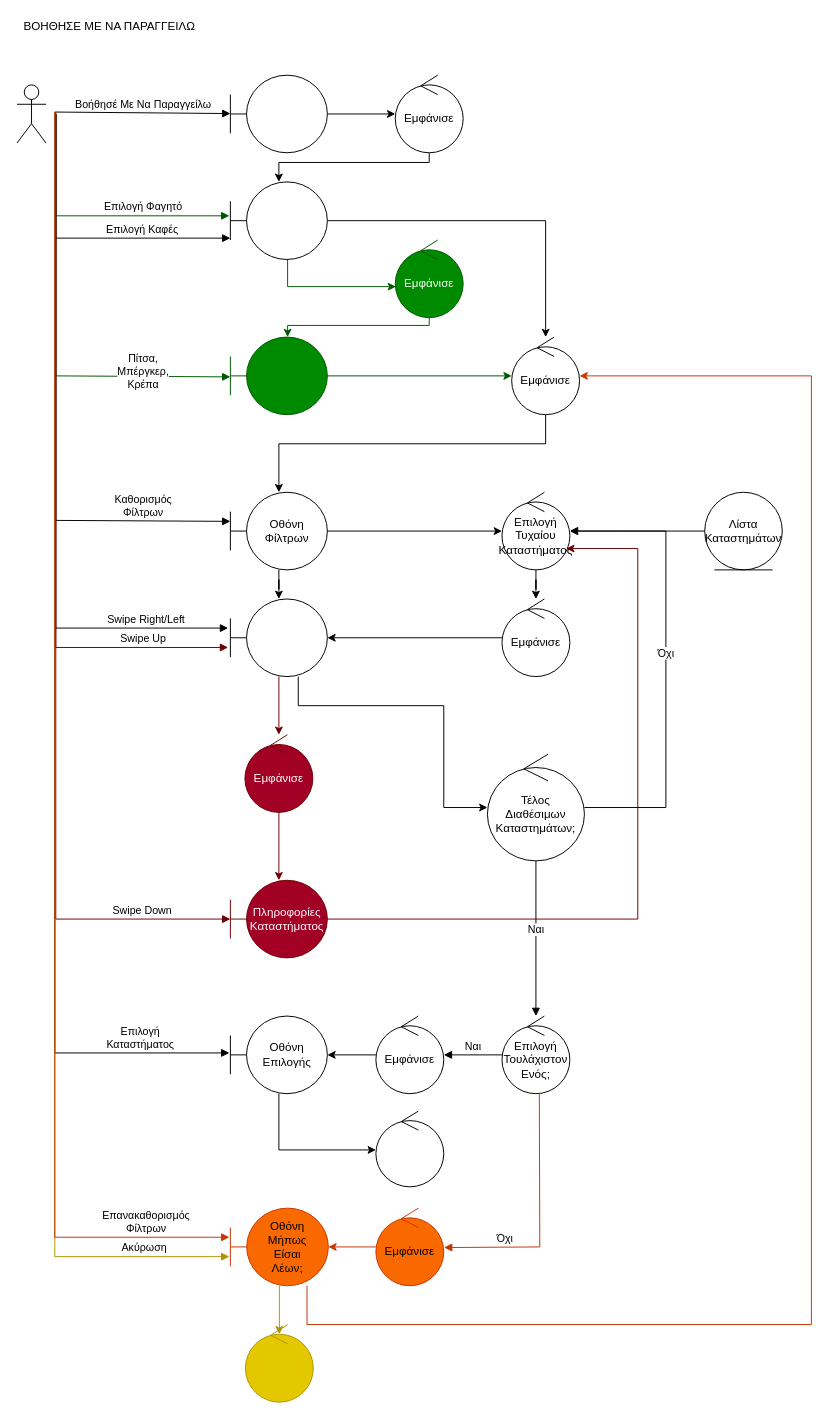
Some shapes in this 836 by 1419 pixel diagram are drawn without their labels. Here are the shapes that lost their labels. From the top down, the centre of each, then its label:
the point at 31,113: Actor
the point at 278,113: Οθόνη Παραγγέλνω Σόλο
the point at 278,220: Οθόνη Καφές Ποτό Φαγητό
the point at 278,375: Επιλογές Φαγτού
the point at 278,637: Οθόνη Τυχαίου Καταστήματος
the point at 409,1148: Παραγγελία
the point at 278,1363: Επιστοφή Στην Αρχική Οθόνη
